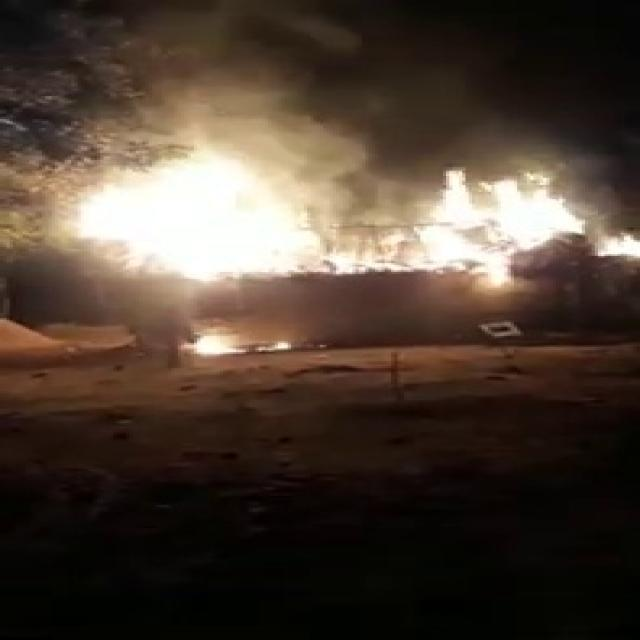Fire: (0, 115, 340, 278), (374, 172, 630, 286), (172, 324, 257, 361)
Smoke: (0, 0, 553, 178)
